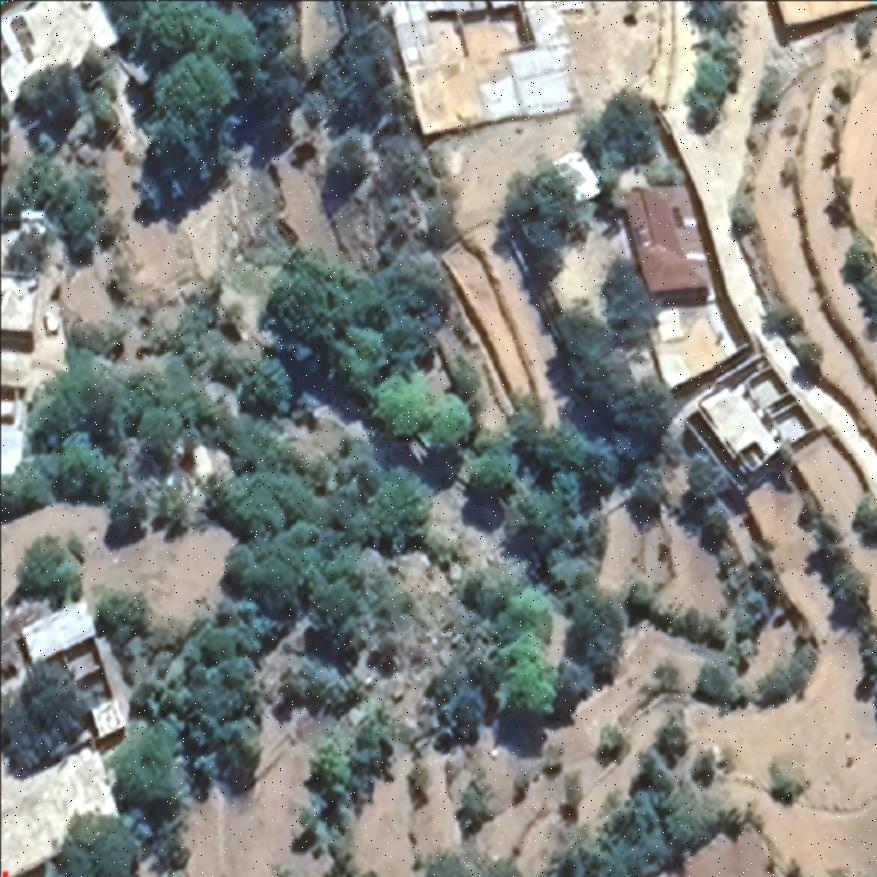Solarpanel: (8, 13, 36, 60)
